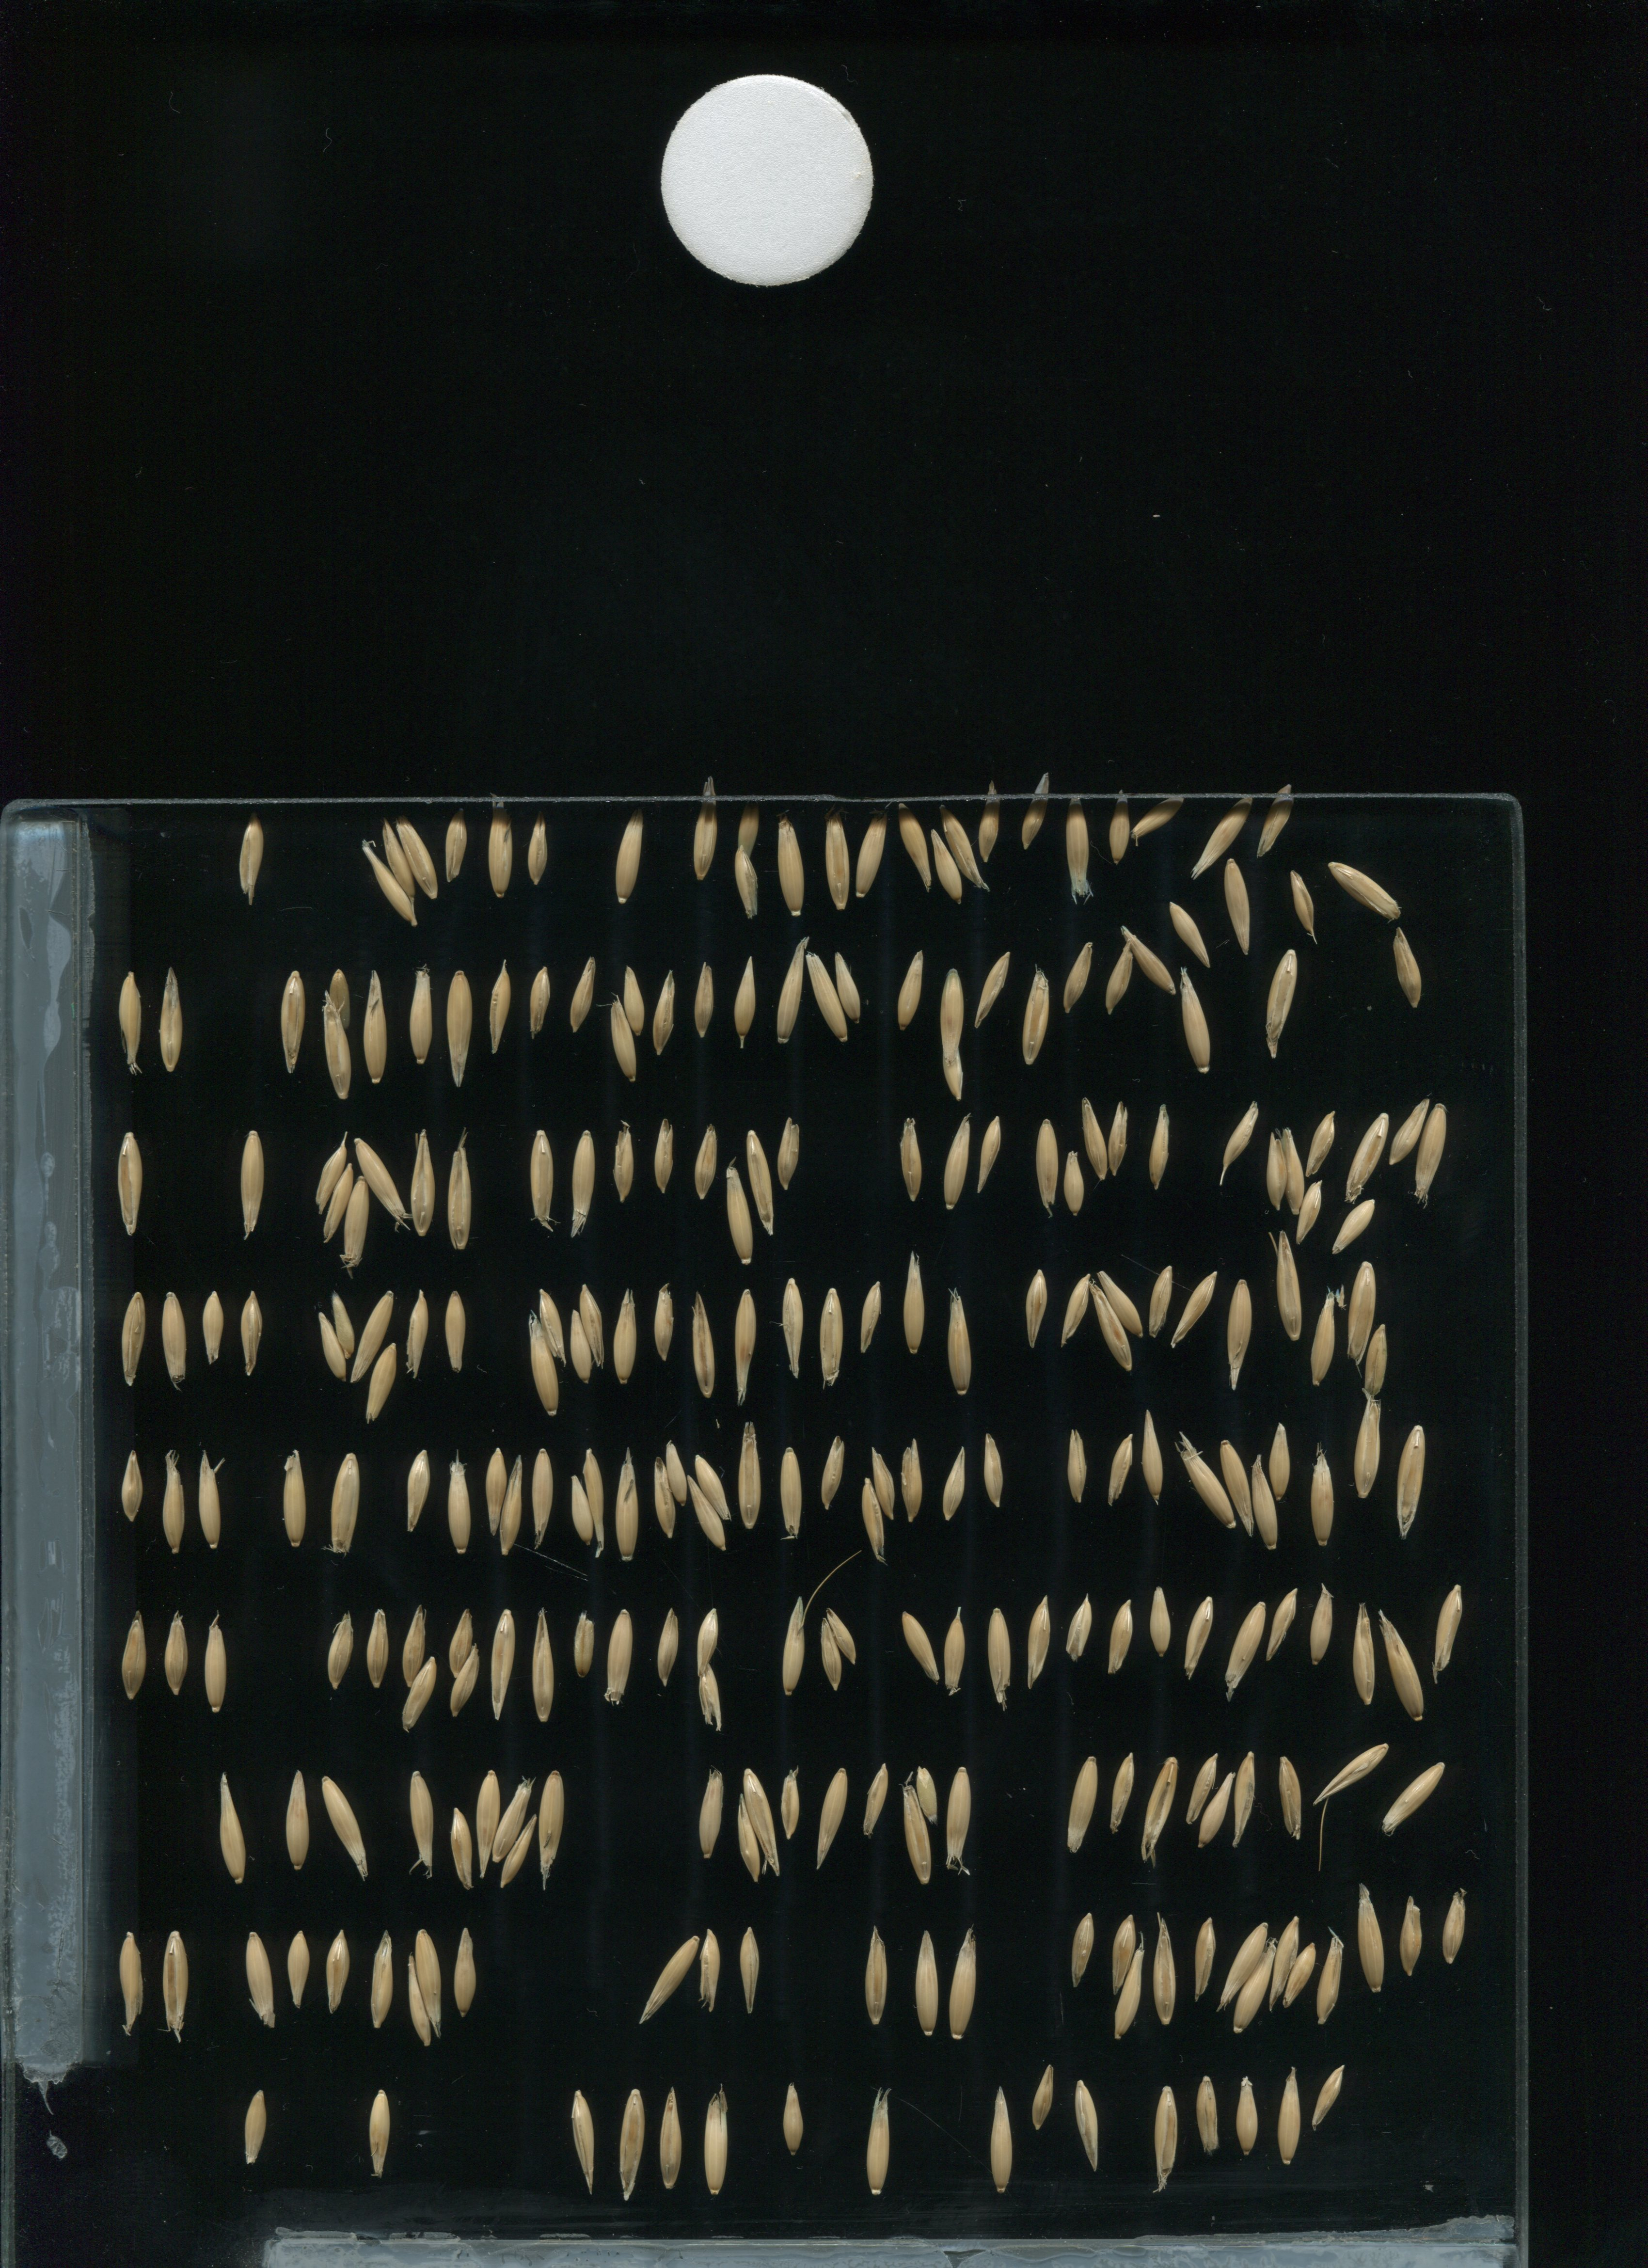NakedGrain: (238, 810, 266, 905), (1440, 1888, 1472, 1970), (327, 1284, 359, 1363), (1398, 1893, 1426, 1979), (1291, 868, 1321, 946), (778, 1768, 803, 1845), (912, 1764, 940, 1830), (327, 965, 354, 1032), (570, 1615, 597, 1680)
WholeGrain: (634, 1930, 701, 2032), (1377, 1602, 1430, 1726), (1174, 1432, 1236, 1535), (1188, 789, 1254, 882), (1308, 1738, 1391, 1808), (1377, 1759, 1446, 1842), (1136, 1750, 1185, 1865), (361, 838, 419, 933), (322, 1771, 372, 1882), (352, 1136, 408, 1229), (1215, 1916, 1268, 2013), (1324, 859, 1402, 924), (1086, 1278, 1137, 1375), (1120, 921, 1181, 1000), (1222, 1601, 1271, 1699), (1232, 1939, 1280, 2041), (812, 1757, 852, 1877), (1261, 944, 1301, 1062), (937, 801, 988, 895), (393, 810, 444, 903), (739, 1766, 780, 1882), (1343, 1108, 1389, 1208), (1173, 967, 1213, 1079), (1167, 1268, 1224, 1347), (1060, 1752, 1102, 1858), (805, 946, 849, 1046), (349, 1285, 393, 1386), (1192, 1766, 1240, 1856), (1095, 1268, 1150, 1344), (1217, 1101, 1262, 1190), (412, 1925, 447, 2041), (694, 2083, 729, 2199), (1148, 2074, 1183, 2191), (1273, 2064, 1308, 2180), (681, 1470, 729, 1555), (1428, 1581, 1468, 1680), (495, 1810, 544, 1891), (606, 1282, 643, 1389), (938, 967, 967, 1108), (773, 933, 808, 1046), (900, 1778, 935, 1891), (947, 1925, 981, 2043), (1150, 1914, 1183, 2032), (1416, 1101, 1451, 1211), (893, 796, 931, 896), (854, 803, 893, 903), (565, 2081, 599, 2198), (613, 2083, 646, 2199), (655, 2083, 688, 2199), (861, 2085, 894, 2201), (981, 2081, 1014, 2198), (898, 1606, 945, 1687), (940, 1766, 975, 1875), (1254, 778, 1299, 861), (1218, 1433, 1254, 1541), (1356, 1881, 1387, 1999), (528, 1604, 558, 1727), (488, 1609, 518, 1733), (526, 1307, 558, 1423), (493, 1771, 532, 1867), (694, 1764, 731, 1863), (396, 1648, 440, 1731), (312, 1129, 352, 1219), (775, 810, 808, 917), (1266, 1907, 1299, 2014), (1113, 1935, 1146, 2043), (380, 814, 417, 910), (361, 1338, 401, 1426), (319, 1159, 357, 1250), (1247, 1451, 1280, 1557), (445, 965, 474, 1090), (1023, 954, 1051, 1079), (537, 1768, 565, 1893), (157, 1447, 188, 1558), (1306, 1444, 1338, 1555), (692, 1451, 736, 1530), (1181, 1592, 1220, 1682), (1384, 1099, 1433, 1169), (942, 1115, 974, 1224), (199, 1609, 231, 1719), (116, 1599, 148, 1708), (602, 1604, 634, 1713), (282, 1768, 313, 1877), (1062, 789, 1092, 903), (484, 799, 518, 902), (482, 956, 518, 1053), (160, 1601, 192, 1708), (982, 1602, 1014, 1710), (1347, 1601, 1379, 1708), (322, 991, 352, 1104), (1232, 1745, 1262, 1858), (613, 806, 646, 907), (114, 967, 144, 1078), (278, 965, 308, 1076), (530, 1129, 560, 1240), (567, 1129, 597, 1240), (725, 1160, 755, 1271), (1222, 1278, 1252, 1389), (1308, 1282, 1338, 1393), (1347, 1259, 1377, 1370), (158, 1284, 188, 1395), (778, 1273, 808, 1384), (817, 1284, 847, 1395), (898, 1248, 928, 1359), (194, 1442, 224, 1553), (217, 1773, 246, 1884), (158, 1930, 188, 2041), (114, 1925, 144, 2036), (912, 1926, 942, 2037), (363, 967, 389, 1092), (408, 956, 435, 1081), (153, 967, 183, 1076), (113, 1129, 143, 1238), (236, 1127, 266, 1236), (407, 1127, 437, 1236), (444, 1139, 474, 1248), (745, 1129, 775, 1238), (1032, 1111, 1062, 1220), (1275, 1233, 1305, 1342), (118, 1284, 148, 1393), (690, 1291, 720, 1400), (944, 1287, 974, 1396), (280, 1446, 310, 1555), (329, 1451, 359, 1560), (445, 1449, 475, 1558), (481, 1437, 511, 1546), (497, 1449, 526, 1558), (525, 1440, 555, 1550), (734, 1421, 764, 1530), (775, 1430, 805, 1539), (611, 1451, 641, 1560), (1396, 1426, 1426, 1535), (1352, 1393, 1382, 1502), (1139, 1405, 1169, 1514), (408, 1773, 438, 1882), (245, 1926, 275, 2036), (366, 1926, 396, 2036), (861, 1925, 891, 2034), (725, 954, 759, 1051), (567, 951, 600, 1048), (685, 954, 718, 1051), (1079, 1092, 1113, 1189), (690, 778, 722, 880), (650, 1599, 685, 1690), (780, 1594, 810, 1701), (1023, 1588, 1053, 1696), (1185, 1745, 1222, 1831), (521, 956, 555, 1051), (438, 1287, 472, 1382), (234, 1284, 268, 1379), (195, 1284, 229, 1379), (447, 1803, 481, 1898), (1389, 924, 1424, 1014), (574, 1278, 609, 1368), (1072, 2078, 1104, 2176), (731, 1289, 757, 1407), (1167, 898, 1211, 968), (474, 1764, 500, 1881), (1100, 942, 1141, 1018), (893, 946, 930, 1028), (401, 1953, 431, 2055), (403, 1285, 435, 1381), (1315, 1933, 1347, 2029), (866, 1439, 900, 1528), (1104, 1749, 1137, 1838), (447, 1645, 486, 1722), (1310, 2060, 1350, 2134), (1331, 1194, 1377, 1259), (928, 826, 963, 910), (1224, 856, 1252, 961), (609, 993, 641, 1086), (1106, 1590, 1137, 1683), (896, 1433, 926, 1532), (975, 947, 1011, 1030), (342, 1174, 372, 1271), (361, 1604, 394, 1690), (400, 1602, 433, 1689), (583, 1446, 609, 1555), (824, 808, 852, 910), (1019, 1268, 1056, 1345), (854, 1277, 891, 1354), (648, 1282, 685, 1359), (1021, 768, 1056, 849), (1266, 1581, 1301, 1662), (896, 1116, 928, 1206), (114, 1442, 146, 1532), (734, 1796, 764, 1889), (535, 1282, 567, 1370), (405, 1446, 437, 1534), (944, 1599, 970, 1703), (972, 1111, 1004, 1197), (322, 1609, 354, 1696), (1060, 1268, 1095, 1345), (831, 947, 864, 1028), (1107, 1911, 1137, 2000), (694, 1659, 729, 1734), (313, 1307, 347, 1386), (1276, 1123, 1305, 1217), (1276, 1749, 1305, 1842), (736, 1923, 764, 2016), (695, 1919, 724, 2013), (1070, 1905, 1099, 1999), (1284, 1937, 1321, 2007), (815, 1432, 847, 1513), (861, 1477, 889, 1567), (981, 1428, 1011, 1513), (1308, 1581, 1336, 1671), (1132, 794, 1185, 842), (1063, 935, 1095, 1014), (283, 1925, 312, 2013), (243, 2081, 271, 2169), (366, 2088, 394, 2176), (692, 1122, 722, 1204), (940, 1440, 970, 1523), (1144, 1099, 1171, 1192), (1106, 1432, 1137, 1509), (1065, 1587, 1097, 1664), (1063, 1423, 1092, 1509), (1264, 1417, 1292, 1504), (778, 2073, 806, 2159), (1030, 2058, 1058, 2145), (1194, 2071, 1222, 2157), (1234, 2074, 1262, 2161), (1361, 1322, 1391, 1403), (776, 1116, 806, 1197), (651, 1118, 681, 1199), (609, 1120, 639, 1201), (451, 1928, 477, 2020), (1192, 1914, 1218, 2006), (1146, 1263, 1176, 1342), (567, 1307, 595, 1389), (322, 1925, 349, 2013), (861, 1761, 891, 1838), (651, 1454, 678, 1541), (820, 1609, 847, 1694), (692, 1604, 722, 1678), (1296, 1182, 1324, 1259), (828, 1606, 861, 1671), (622, 956, 646, 1044), (651, 967, 674, 1060), (734, 847, 764, 917), (662, 1439, 692, 1509), (1104, 1097, 1130, 1176), (442, 803, 467, 887), (1148, 1579, 1173, 1664), (1306, 1106, 1336, 1174), (447, 1606, 474, 1683), (1266, 1130, 1291, 1213), (979, 780, 1002, 866), (525, 806, 548, 889), (1063, 1148, 1088, 1224), (570, 1472, 592, 1551), (736, 794, 761, 859), (1111, 787, 1130, 870)
